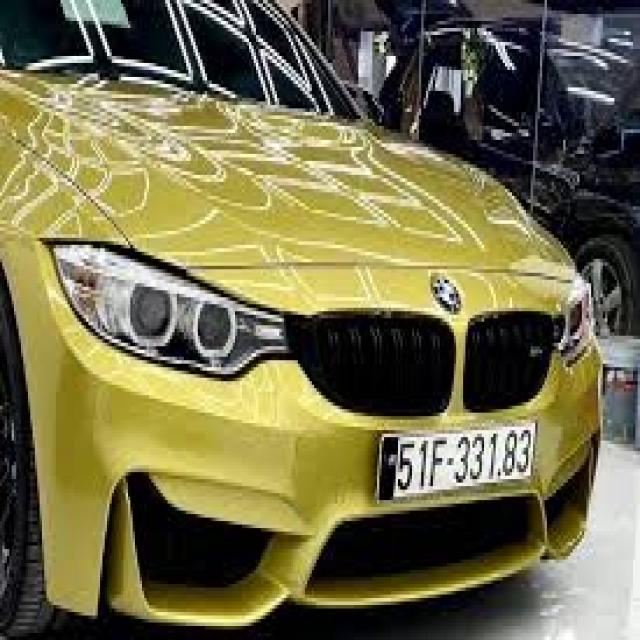bien_so: (364, 413, 550, 525)
